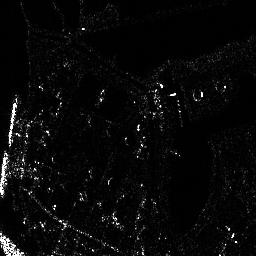ship: (1, 232, 26, 254), (8, 97, 19, 145), (1, 148, 8, 197)
